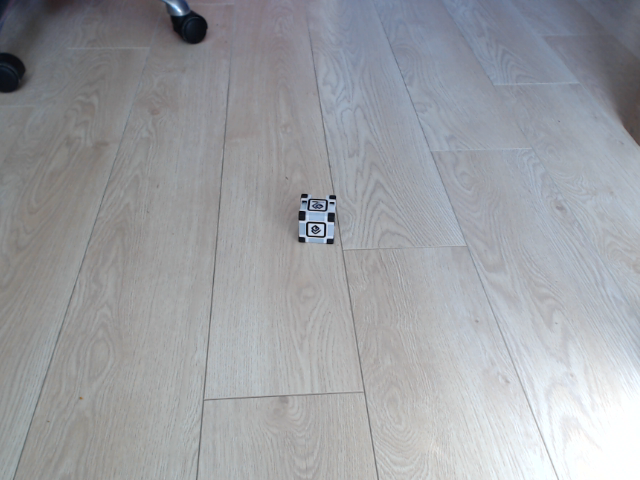block: (295, 192, 339, 247)
